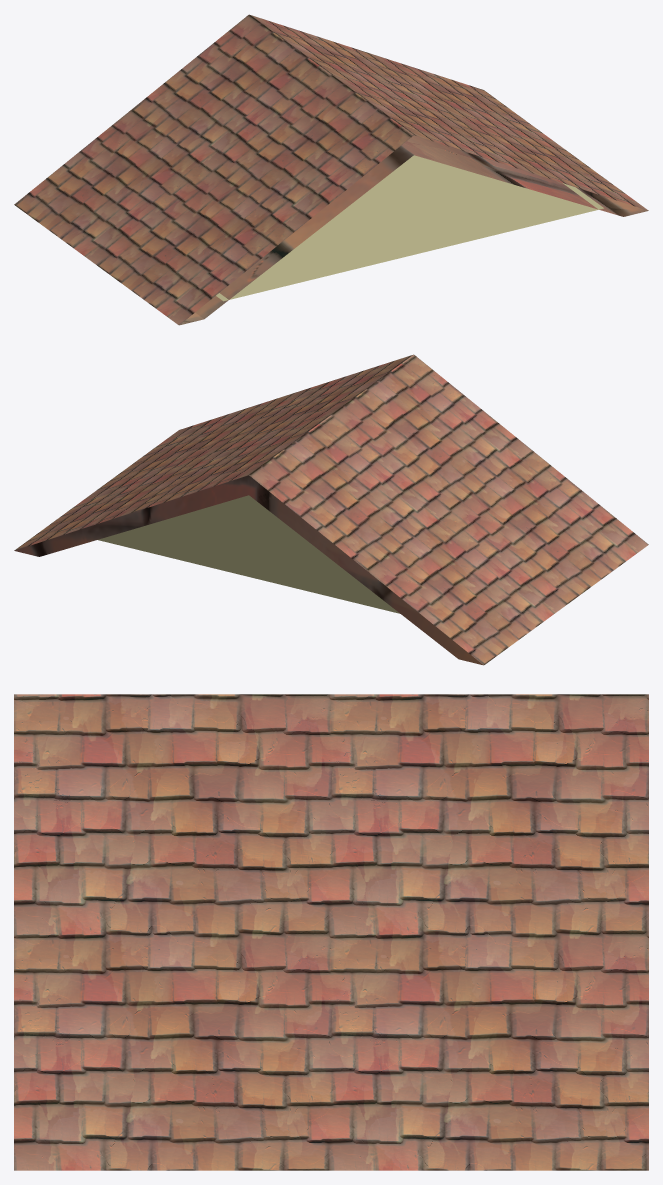
Rendered from roof_6x2x4_head.fbx.
3 views of the same model, one above another, from view 1: azimuth 30°, elevation 25°; view 2: azimuth 150°, elevation 25°; view 3: azimuth 270°, elevation 25° (orthographic). The views are drawn at different scales.
Parts seen in each view (by area): view 1: roof_6x2x4_head; view 2: roof_6x2x4_head; view 3: roof_6x2x4_head.
Boxes of the visible parts, x1=… form: roof_6x2x4_head: x1=14, y1=14, x2=648, y2=325; roof_6x2x4_head: x1=14, y1=354, x2=648, y2=665; roof_6x2x4_head: x1=14, y1=694, x2=648, y2=1170.
Size of the model in its own units: 740 by 200 by 450.
